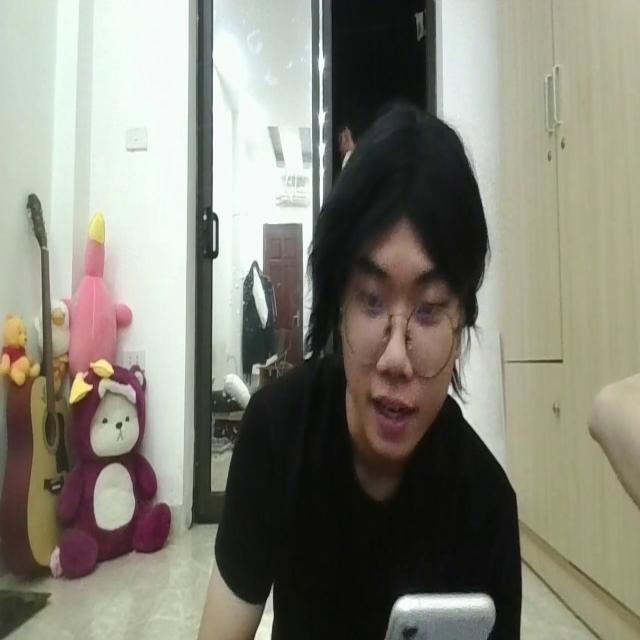phone: (379, 583, 495, 640)
student: (184, 103, 527, 640)
